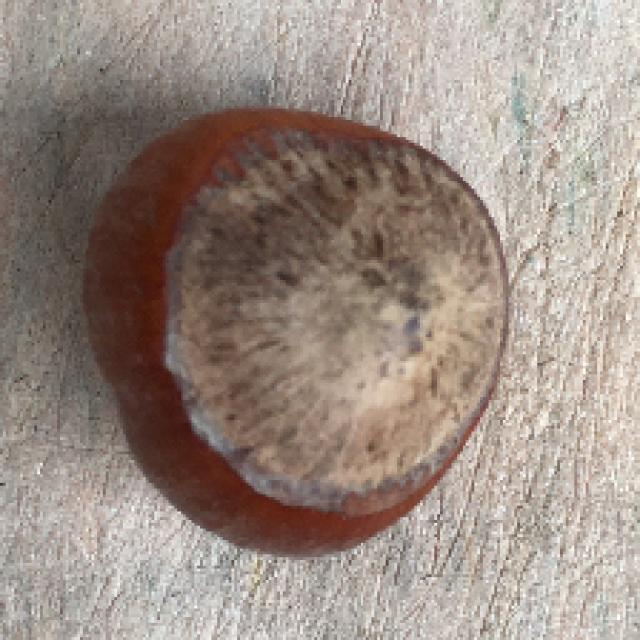qualityHazelnut: (82, 103, 520, 558)
